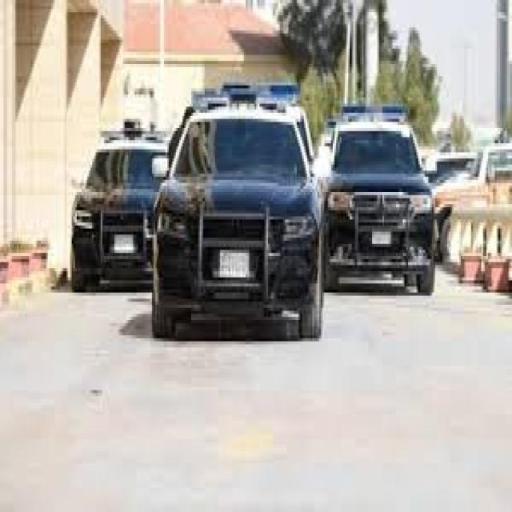Ambulance: (150, 96, 324, 345), (330, 95, 439, 305), (65, 115, 162, 303)
